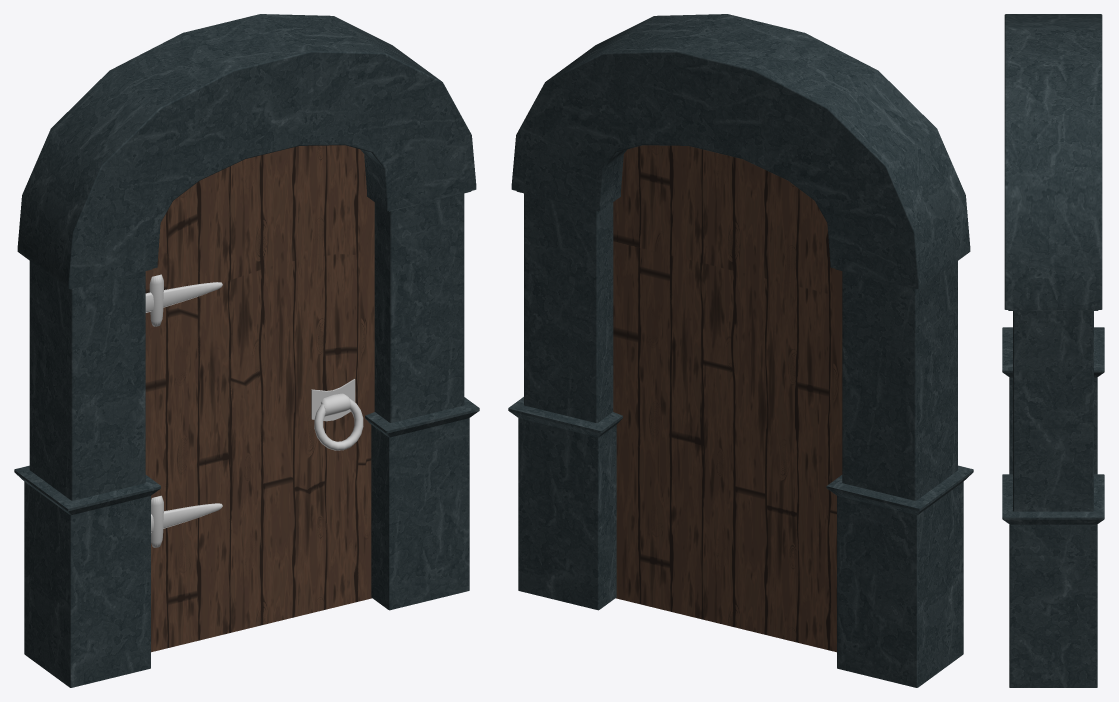
File: Door.fbx
3 views of the same model, side by side, from view 1: azimuth 30°, elevation 25°; view 2: azimuth 150°, elevation 25°; view 3: azimuth 270°, elevation 25° (orthographic). The views are drawn at different scales.
Parts seen in each view (by area): view 1: polySurface12; view 2: polySurface12; view 3: polySurface12.
Boxes of the visible parts, box(x1,y1,x2,y2) form: polySurface12: box(14, 14, 479, 687); polySurface12: box(508, 14, 973, 687); polySurface12: box(1002, 14, 1104, 687).
Size of the model in its own units: 1065 by 1436 by 242.
